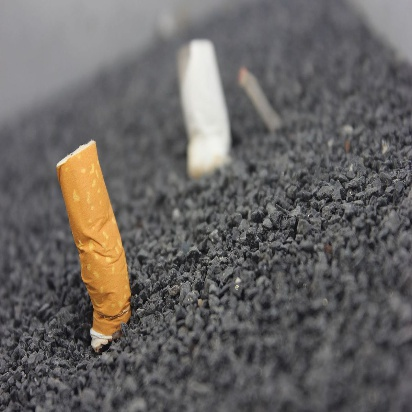cigarette: (50, 138, 142, 352), (176, 36, 238, 184)
